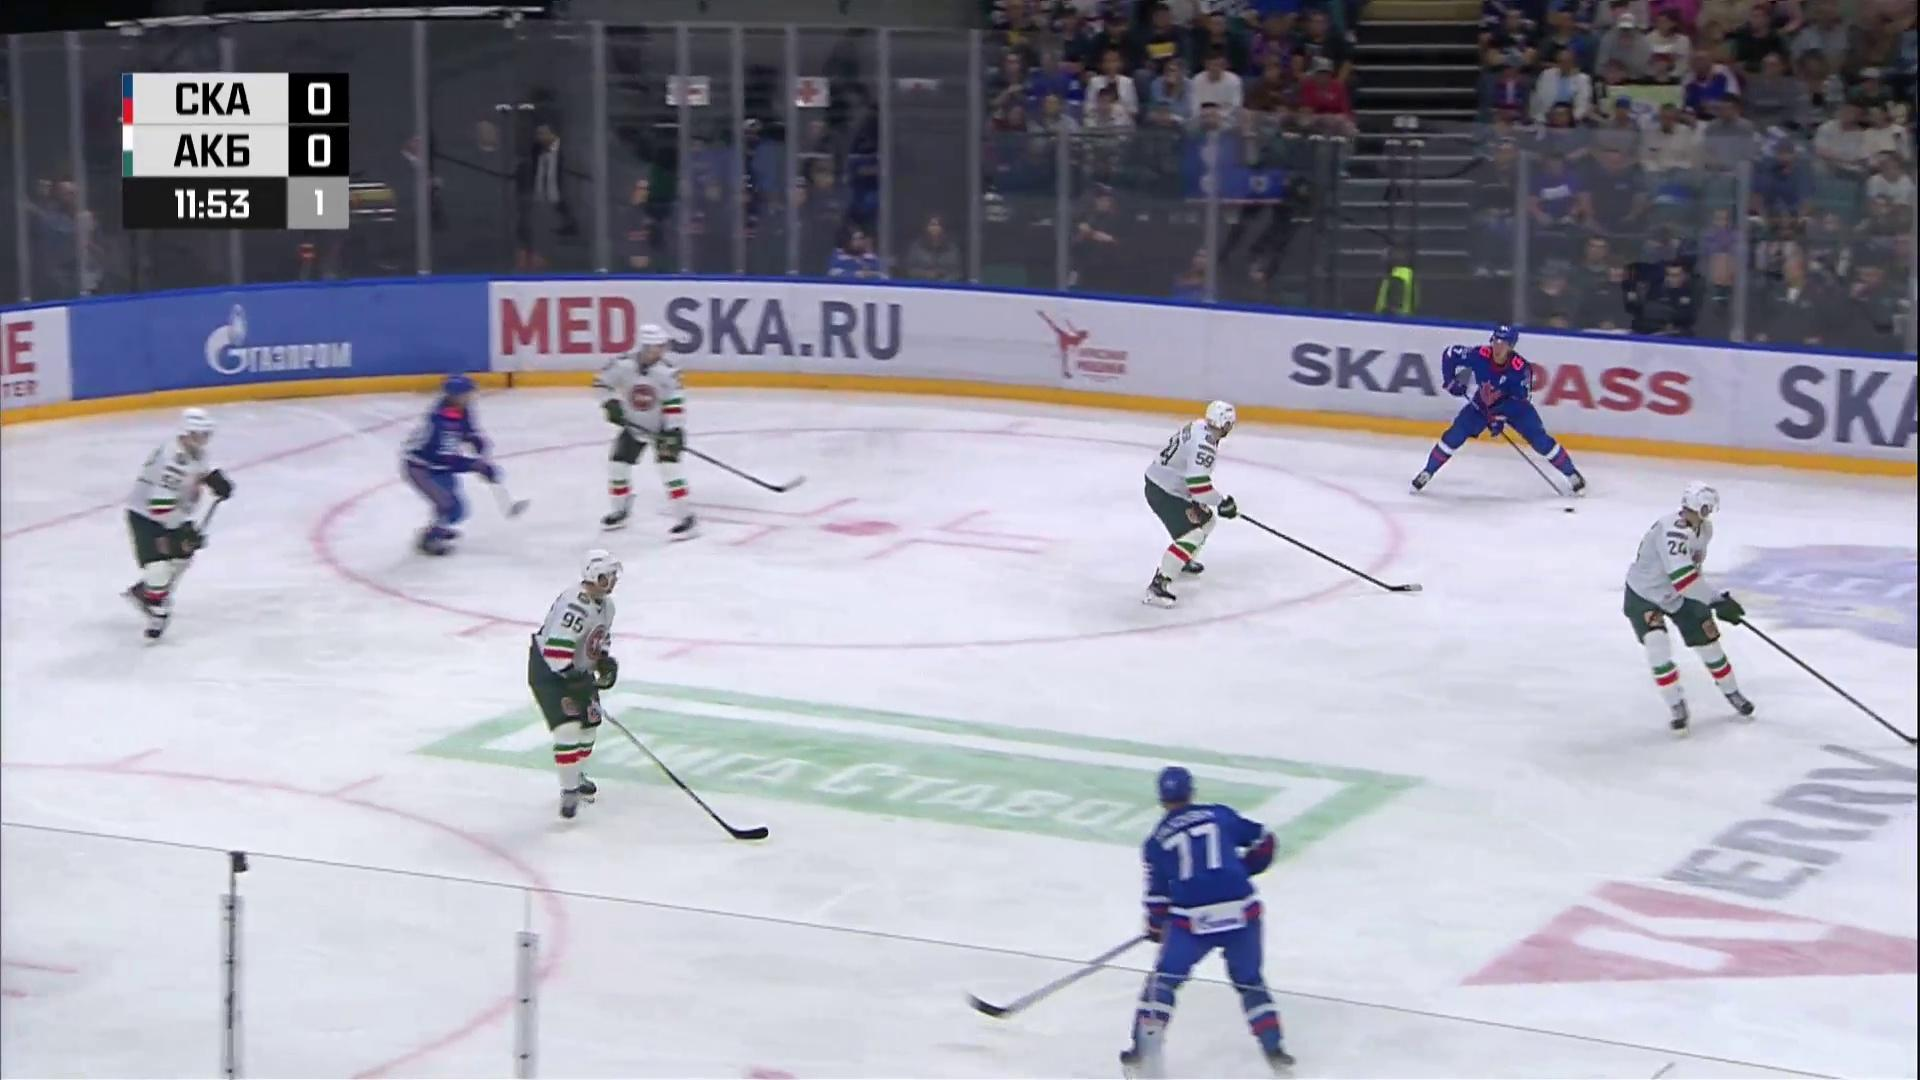ball: (1564, 506, 1576, 514)
